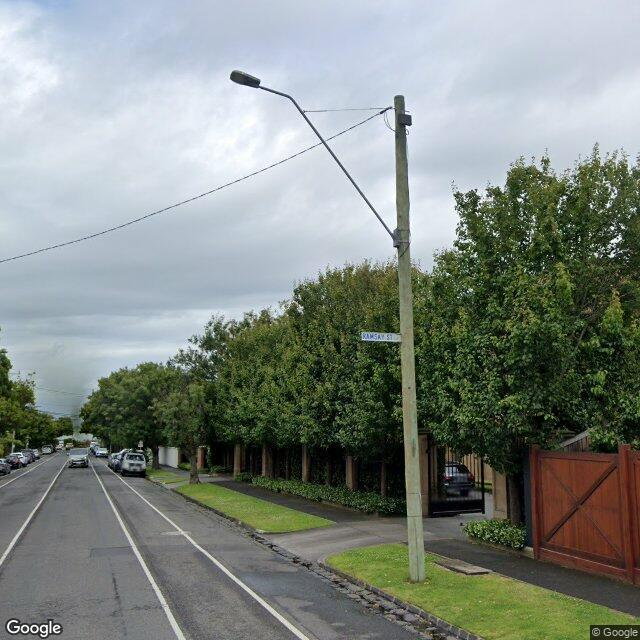streetlight: (230, 70, 400, 248)
timber-pole: (394, 95, 426, 582)
